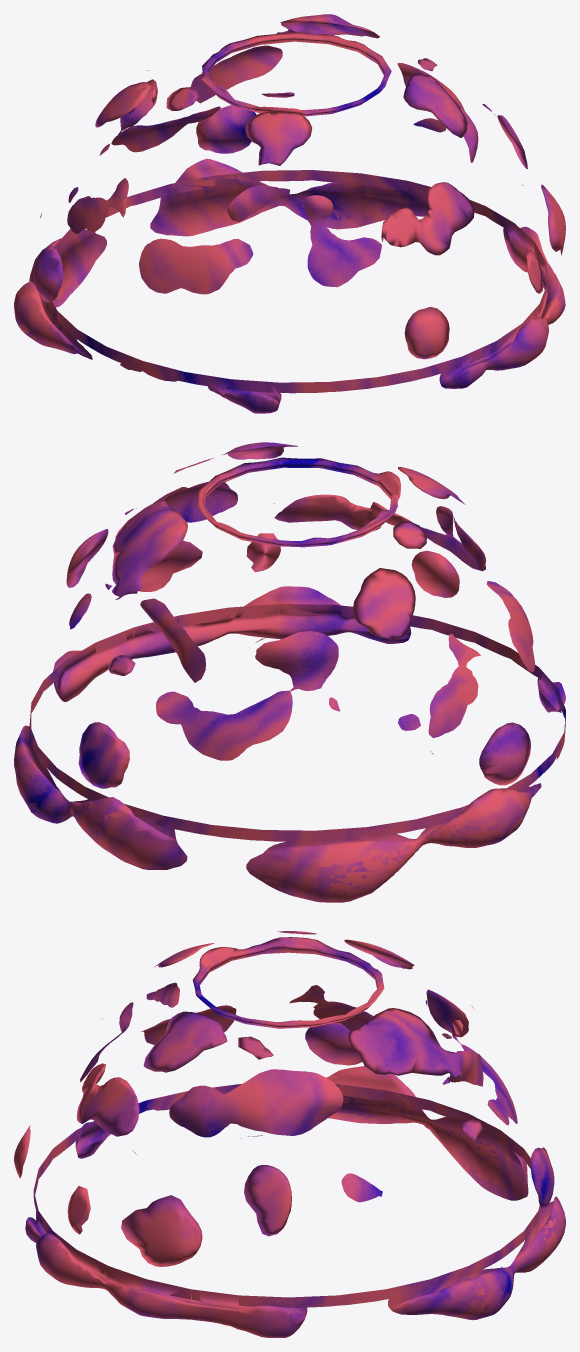
The model's file is sand.obj.
The picture shows the model from 3 angles, top to bottom: view 1: azimuth 30°, elevation 25°; view 2: azimuth 150°, elevation 25°; view 3: azimuth 270°, elevation 25°; orthographic projection. The views are drawn at different scales.
Parts seen in each view (by area): view 1: ground_sable; view 2: ground_sable; view 3: ground_sable.
Boxes of the visible parts, left/top/right/bottom form: ground_sable: left=14, top=14, right=565, bottom=413; ground_sable: left=14, top=442, right=565, bottom=902; ground_sable: left=14, top=931, right=565, bottom=1337.
Bounding box in the file's own units: 48.92 × 27.49 × 49.18.
